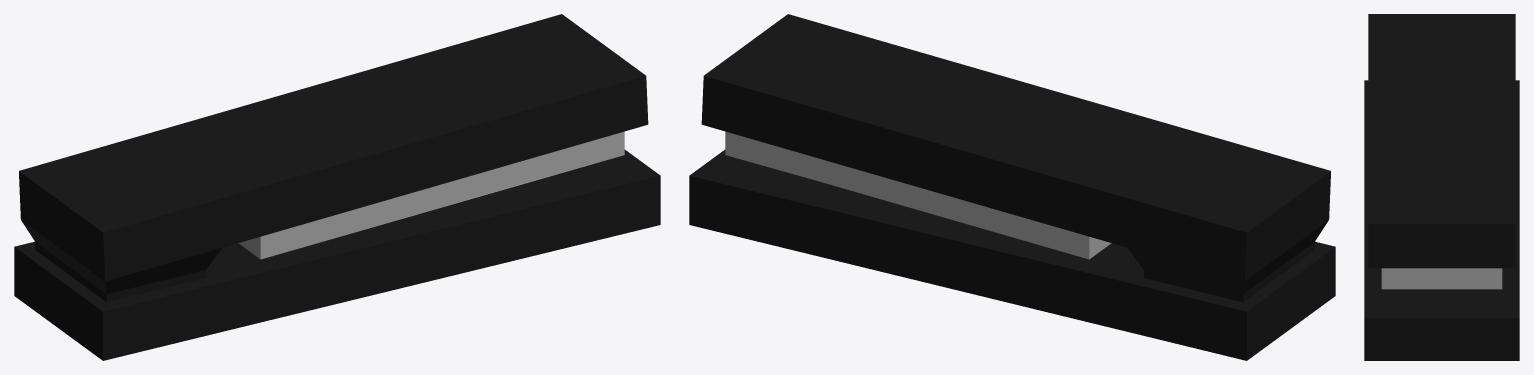
The model's file is stapler.fbx.
3 views of the same model, side by side, from view 1: azimuth 30°, elevation 25°; view 2: azimuth 150°, elevation 25°; view 3: azimuth 270°, elevation 25° (orthographic). The views are drawn at different scales.
Parts seen in each view (by area): view 1: Cube; view 2: Cube; view 3: Cube.
Part boxes in pixels (x1,y1,x2,y2): Cube: (14,14,660,360); Cube: (689,14,1335,360); Cube: (1364,14,1519,360).
Size of the model in its own units: 441 by 114 by 122.
Materials: 1 (1 with a texture image).
